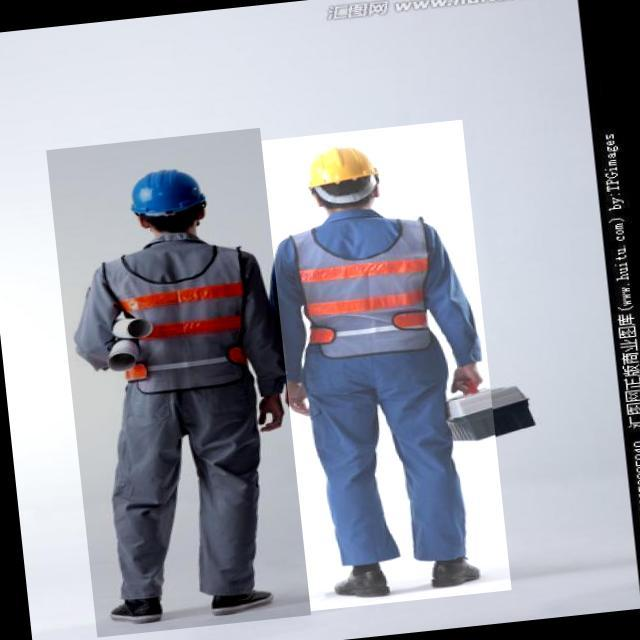Helmet: (121, 163, 213, 220), (302, 144, 382, 189)
Person: (272, 122, 545, 633), (41, 121, 285, 640)
Safety Boot: (323, 553, 402, 610), (201, 572, 285, 624), (101, 588, 174, 634), (423, 550, 490, 596)
Safety Vest: (93, 231, 263, 405), (281, 206, 450, 374)
bare-arms: (253, 373, 287, 436), (284, 369, 318, 422), (449, 359, 490, 399)
